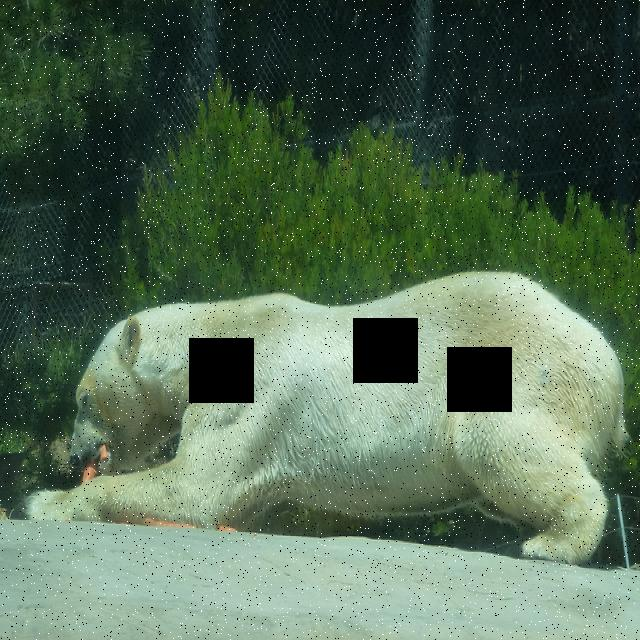Bear: (31, 271, 634, 563)
